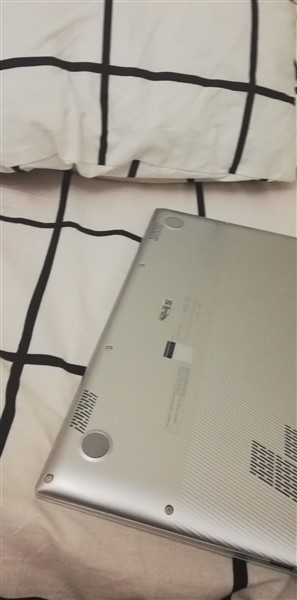laptop: (35, 197, 296, 578)
